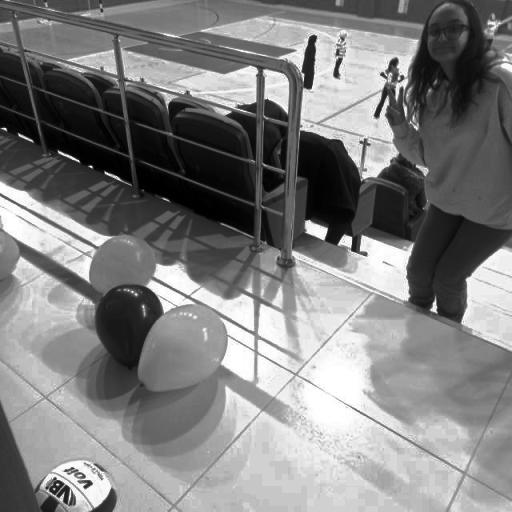balloon: (142, 301, 230, 394), (94, 280, 164, 368), (91, 234, 158, 290)
